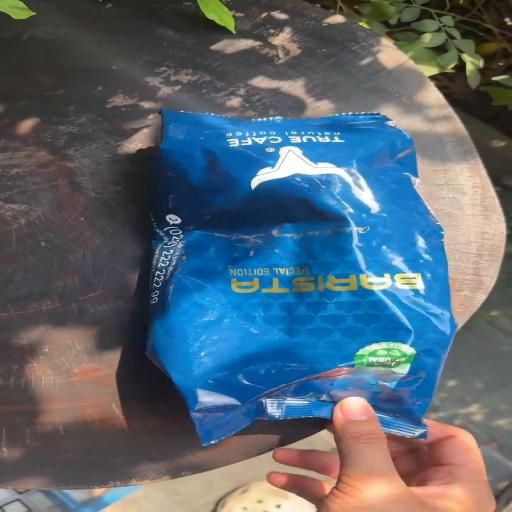cafe_hat: (147, 110, 456, 445)
